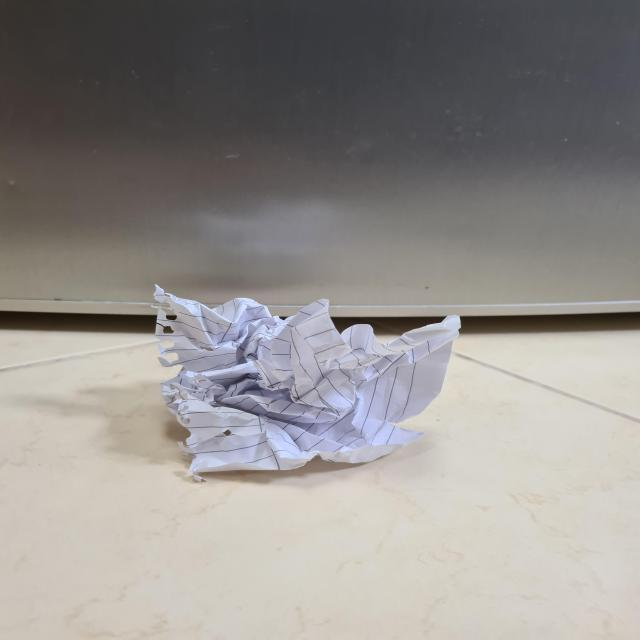cardboard paper: (153, 285, 458, 471)
